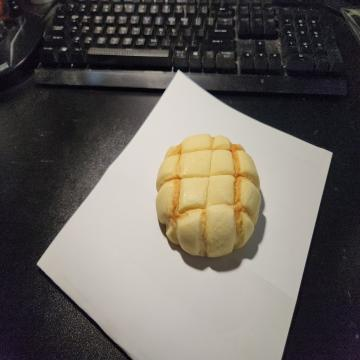melon_bread: (155, 132, 261, 256)
